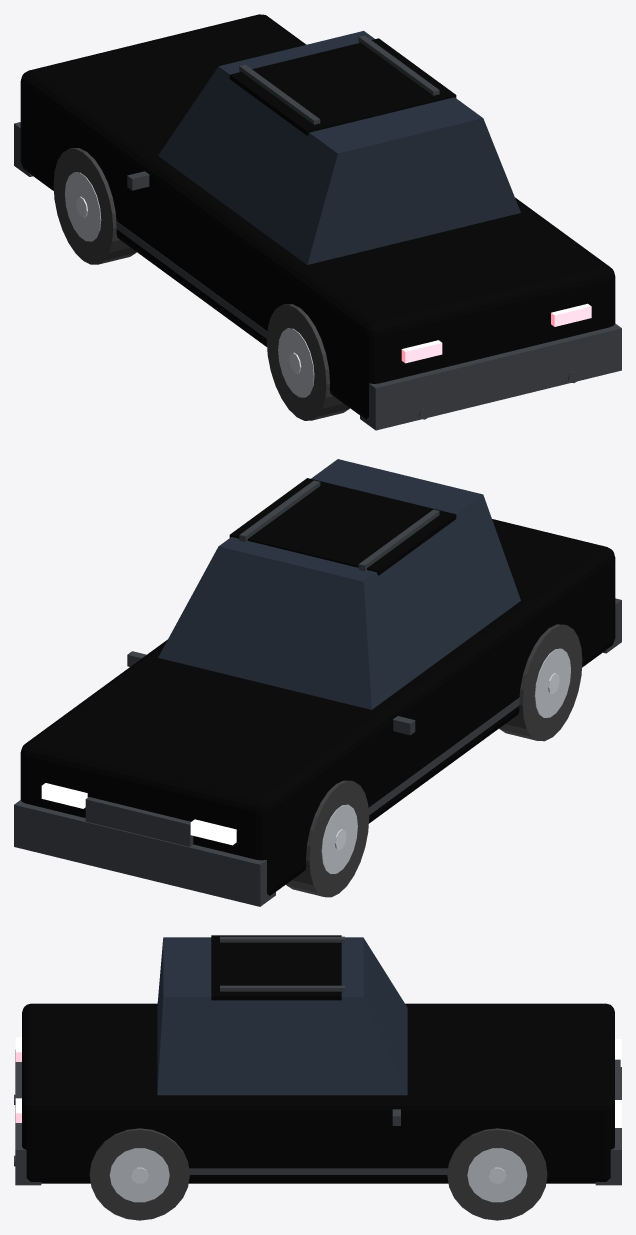
The model's file is colossus-v.glb.
3 renders of one model, top to bottom at view 1: azimuth 30°, elevation 25°; view 2: azimuth 150°, elevation 25°; view 3: azimuth 270°, elevation 25°, orthographic. The views are drawn at different scales.
Visible parts, largest first — view 1: Body, Glass, Trim, WheelFL, WheelRL, LightRear; view 2: Body, Glass, Trim, WheelFL, WheelRL, LightFront; view 3: Body, Glass, WheelRR, WheelFR, Trim.
Boxes of the visible parts, <box> form: Body: <box>20,14,615,419</box>; Glass: <box>158,31,520,264</box>; Trim: <box>14,35,621,430</box>; WheelFL: <box>53,148,136,264</box>; WheelRL: <box>266,304,349,420</box>; LightRear: <box>401,303,591,363</box>; Body: <box>20,478,615,895</box>; Glass: <box>158,459,520,709</box>; Trim: <box>14,480,621,906</box>; WheelFL: <box>286,780,369,897</box>; WheelRL: <box>499,624,582,741</box>; LightFront: <box>41,783,236,845</box>; Body: <box>22,935,614,1183</box>; Glass: <box>157,937,407,1095</box>; WheelRR: <box>89,1128,189,1220</box>; WheelFR: <box>447,1128,547,1220</box>; Trim: <box>14,936,621,1185</box>.
Bounding box in the file's own units: 2.3 × 1.91 × 5.1.
Materials: 6 (1 with a texture image).
